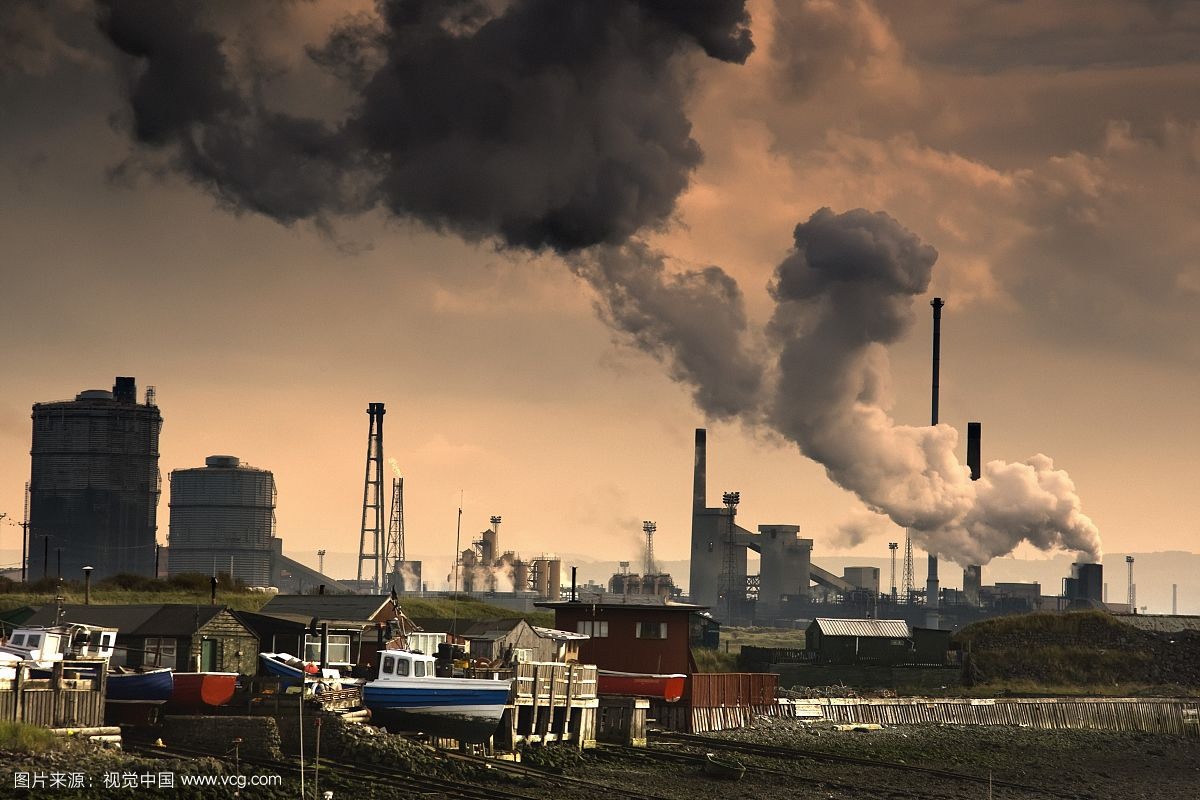dust: (757, 199, 1117, 563)
